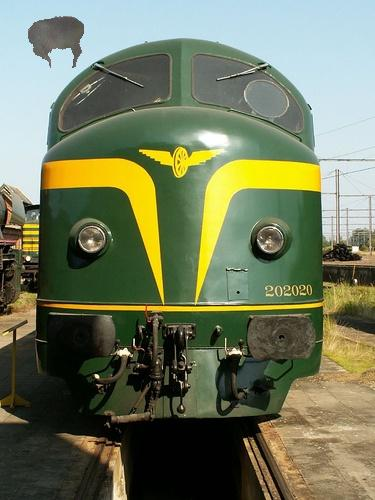tampered: (29, 17, 84, 68)
